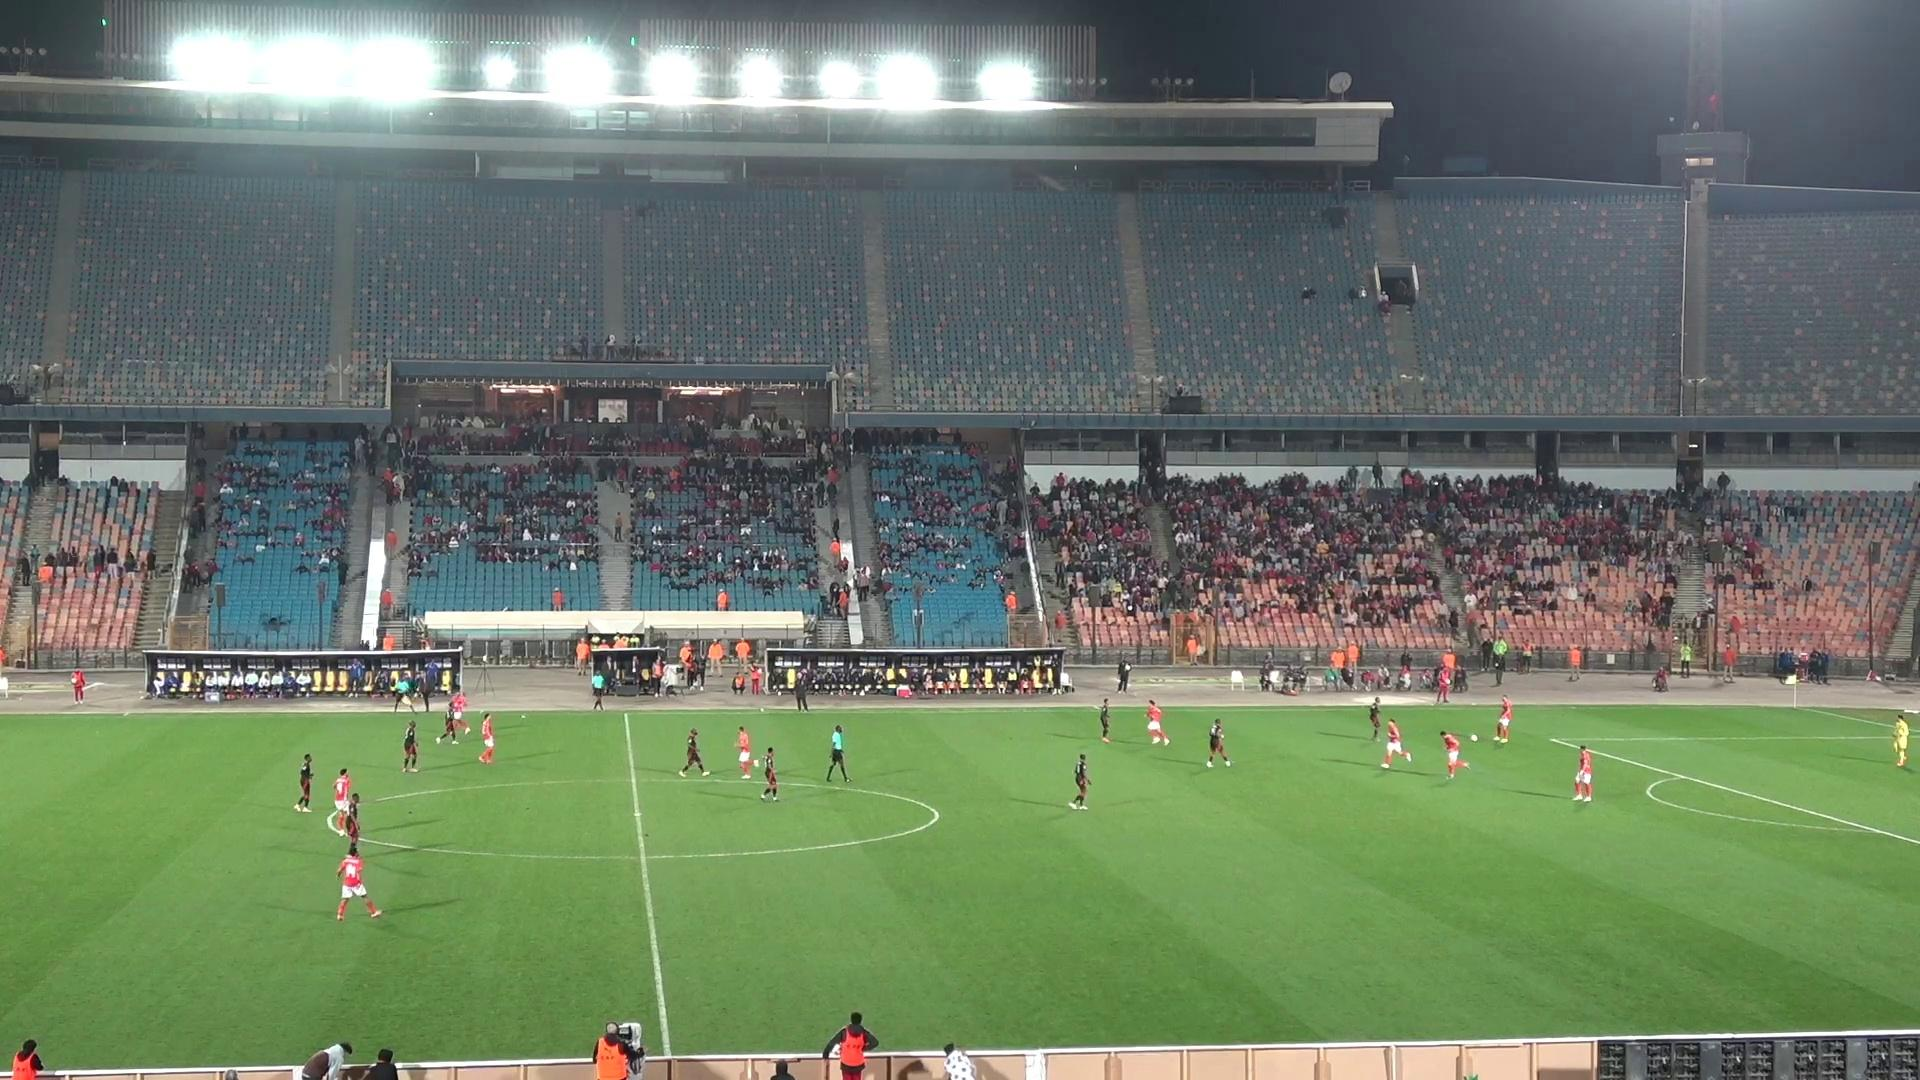Ball: (1466, 733, 1480, 742)
GK1: (1891, 709, 1909, 769)
Refree: (825, 724, 851, 782), (589, 670, 613, 709)
Team1: (336, 844, 382, 920), (326, 767, 357, 829), (436, 691, 469, 742), (1381, 719, 1410, 769), (1572, 745, 1593, 803), (735, 727, 757, 779), (1443, 731, 1466, 778), (1145, 699, 1168, 744), (1491, 696, 1514, 744), (477, 713, 495, 764)
Team2: (327, 791, 360, 847), (678, 728, 709, 774), (291, 753, 314, 812), (1205, 719, 1232, 765), (1068, 754, 1091, 808), (760, 746, 779, 800), (400, 720, 419, 771), (1367, 698, 1386, 741), (1097, 698, 1113, 742)
